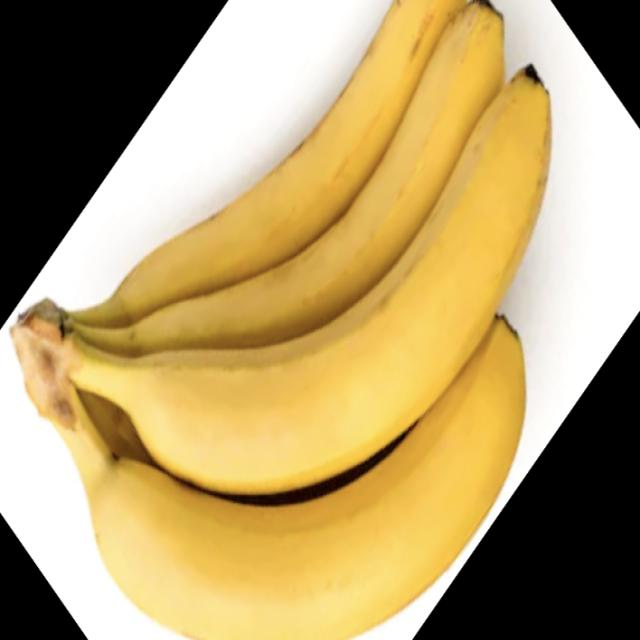god quality banana: (11, 1, 551, 639)
